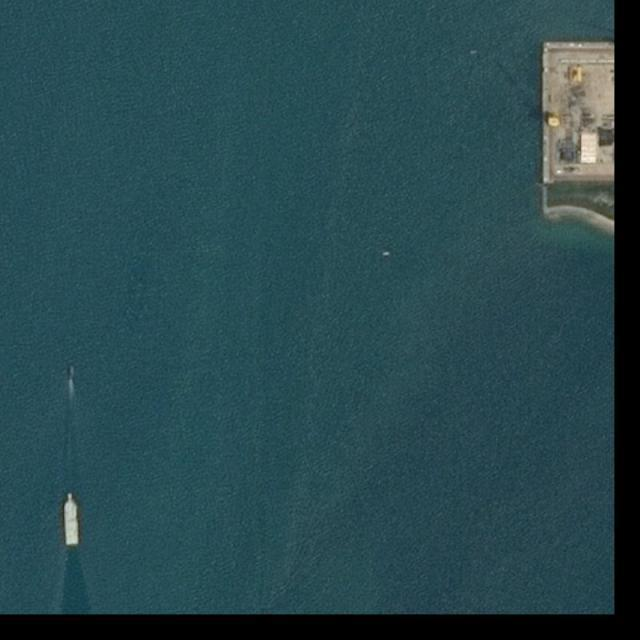ship: (62, 492, 81, 546), (68, 364, 74, 379), (382, 252, 390, 258)
